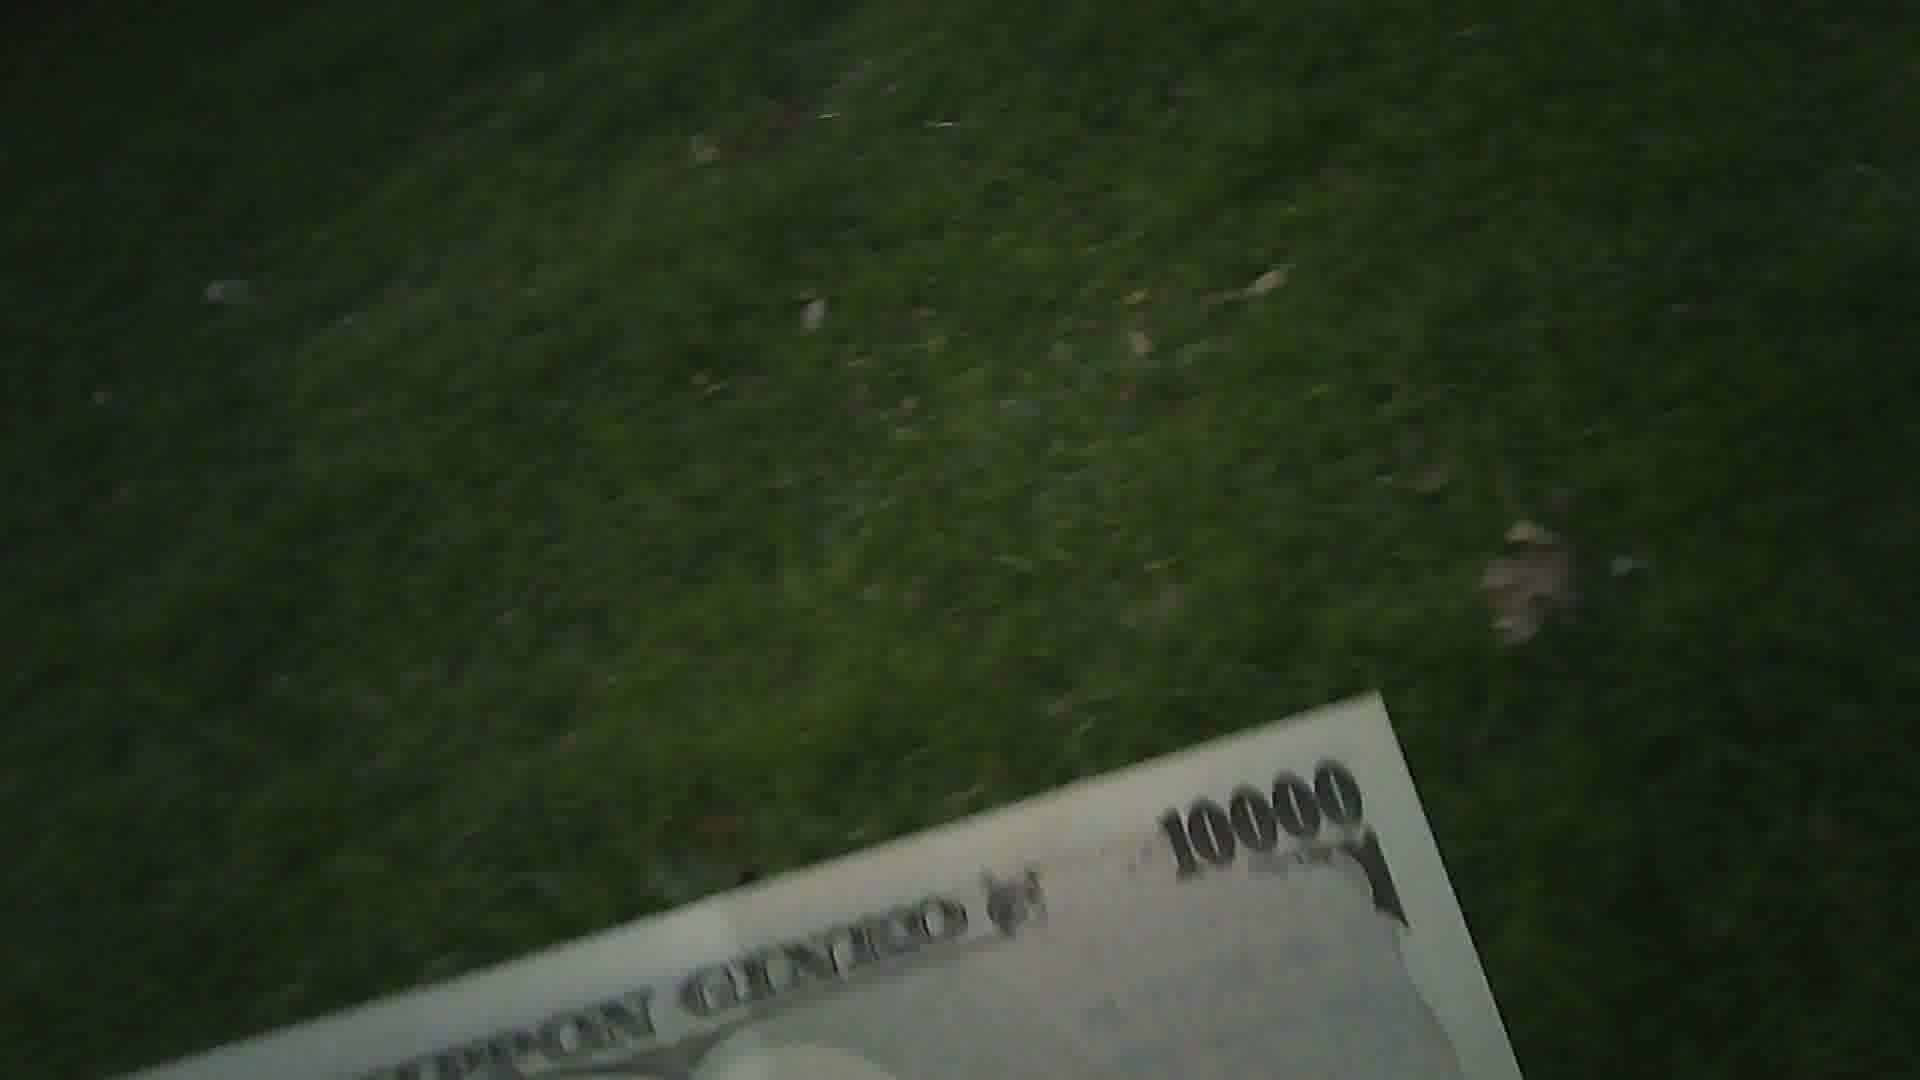10,000 Yen: (258, 687, 1491, 1079)
